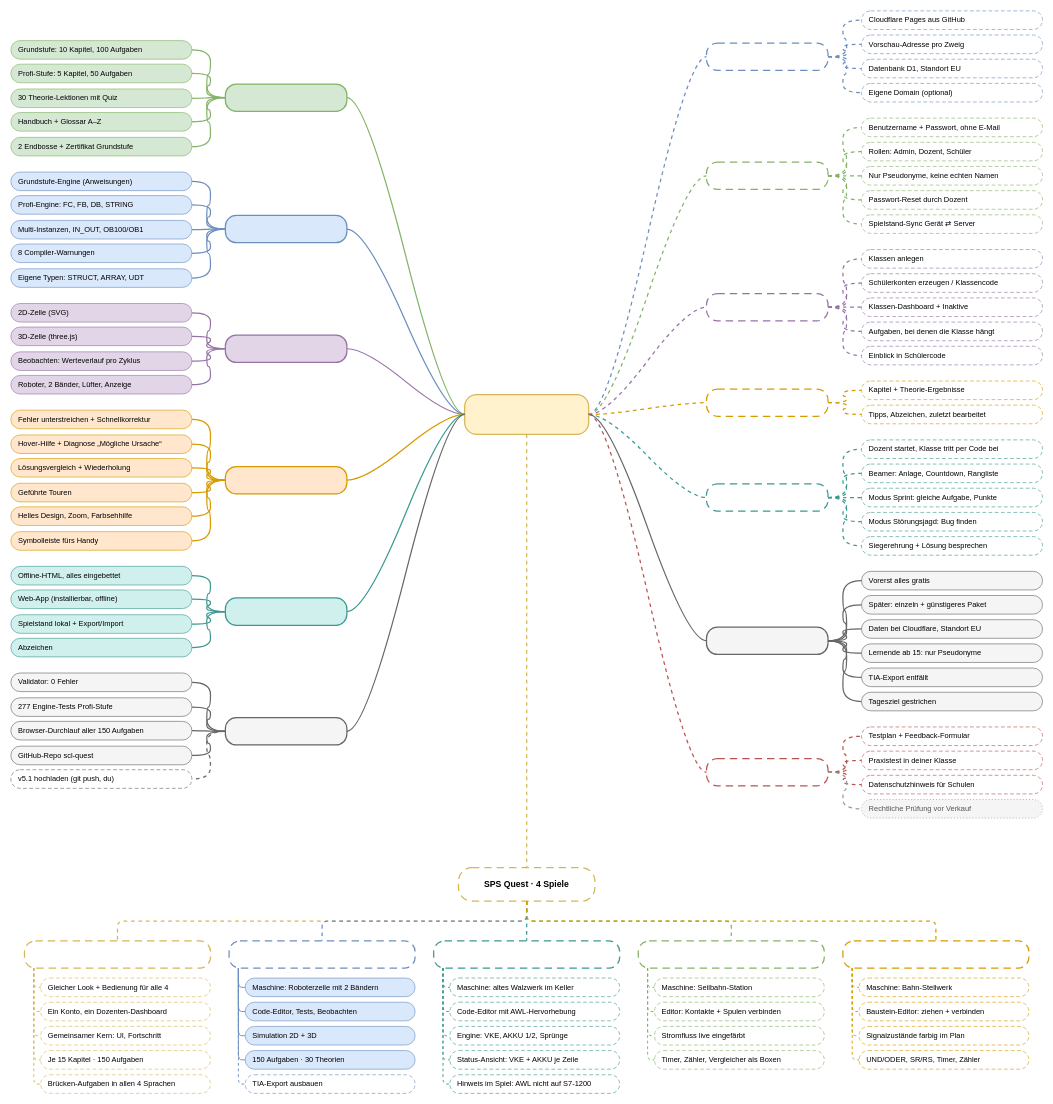
Some shapes in this 1053 by 1104 pixel diagram are drawn without their labels. Each missing label, with the centre of its shape:
"Anlagen-Simulation" goes at point 285,348.
"Auslieferung" goes at point 285,611.
"AWL Quest" goes at point 526,954.
"Bedienkomfort" goes at point 285,480.
"Dozenten & Klassen" goes at point 767,307.
"Entscheidungen" goes at point 767,640.
"Fortschritt-Dashboard" goes at point 767,402.
"FUP Quest" goes at point 935,954.
"Gemeinsame Basis" goes at point 117,954.
"Hosting" goes at point 767,56.
"Konten & Anmeldung" goes at point 767,175.
"KOP Quest" goes at point 731,954.
"Lerninhalte" goes at point 285,97.
"Live-Challenge" goes at point 767,497.
"Praxistest & Datenschutz" goes at point 767,772.
"Qualität & Code" goes at point 285,731.
"SCL Quest" goes at point 321,954.
"SCL Quest v5.1" goes at point 526,414.
"SCL-Engines" goes at point 285,229.
